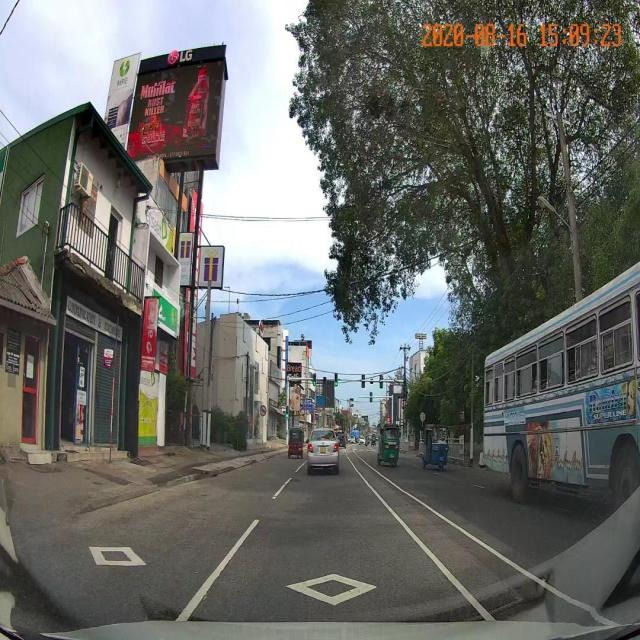Liniya 1: (379, 474, 593, 612), (355, 470, 496, 623), (175, 520, 259, 622), (272, 476, 292, 500)
Romb: (286, 572, 375, 605), (89, 545, 147, 565)
